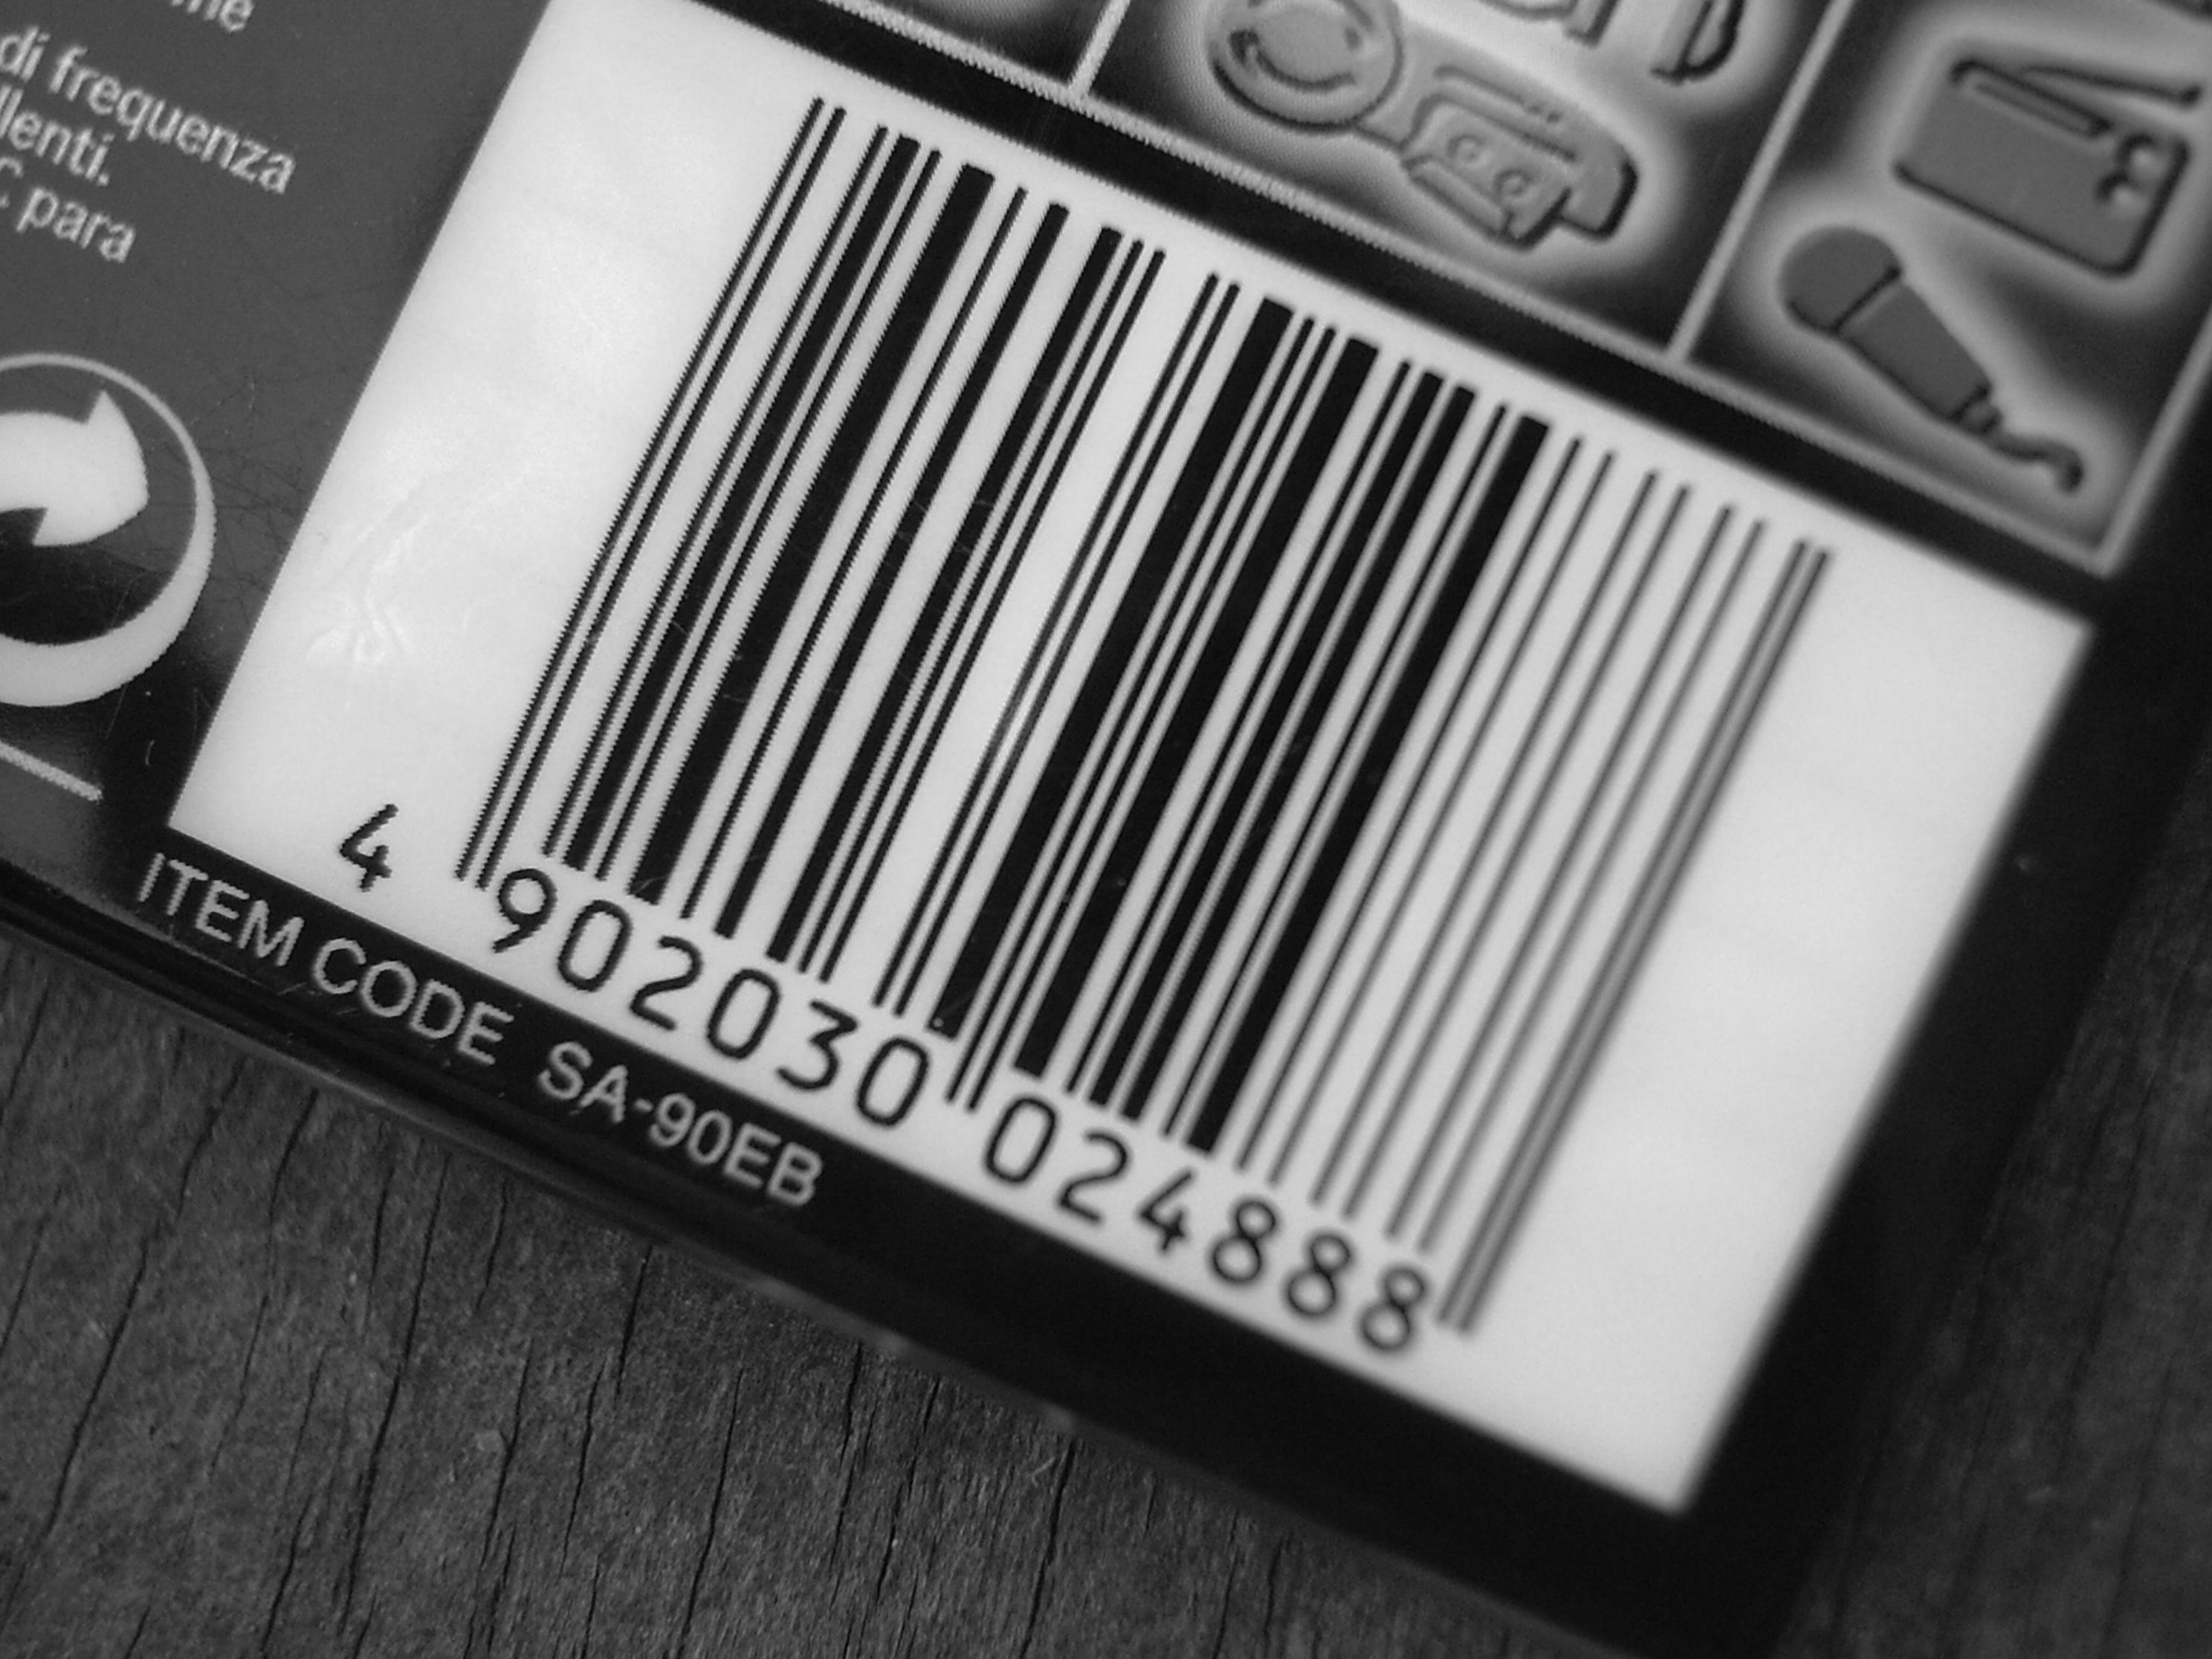Barcode: (556, 71, 1638, 1359)
